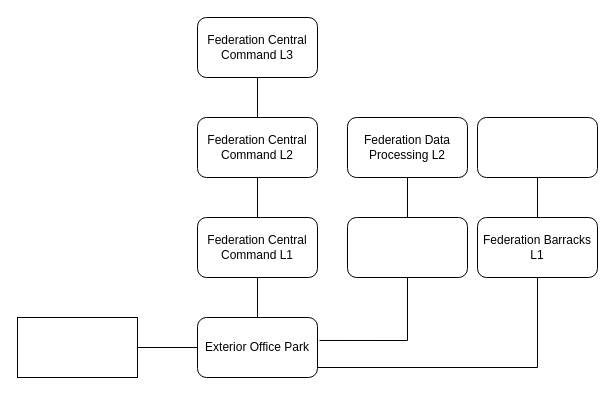
This 615x395 diagram has some shape labels left out. Each missing label, with the box of its shape:
Federation Armory L2: (476, 116, 598, 178)
Federation Data Processing L1: (346, 216, 468, 278)
Front Gate: (16, 316, 138, 378)
